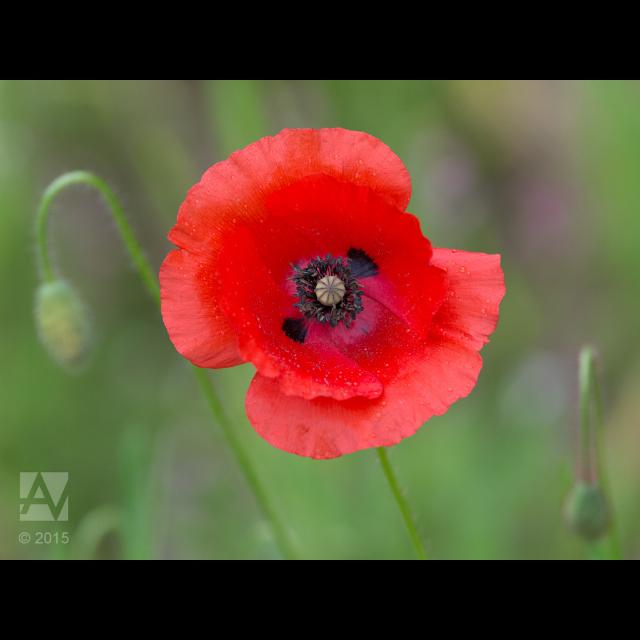Flower: (158, 120, 500, 468)
